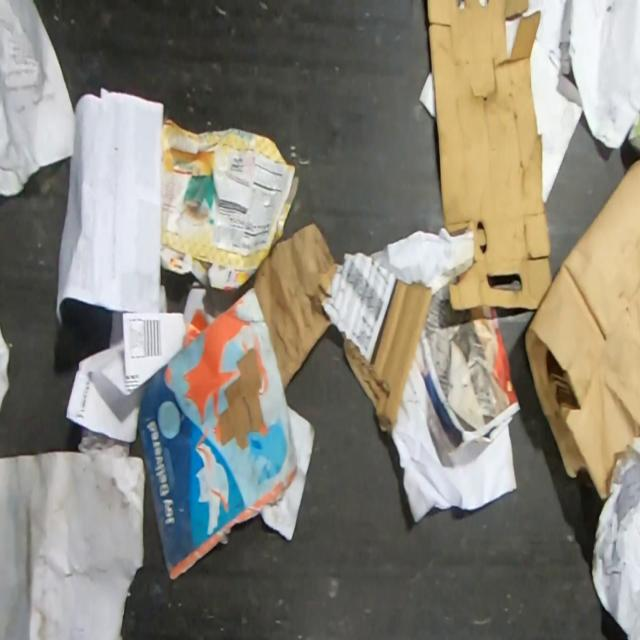cardboard: (523, 155, 640, 503), (426, 0, 552, 311), (160, 116, 300, 292), (315, 248, 435, 436)
